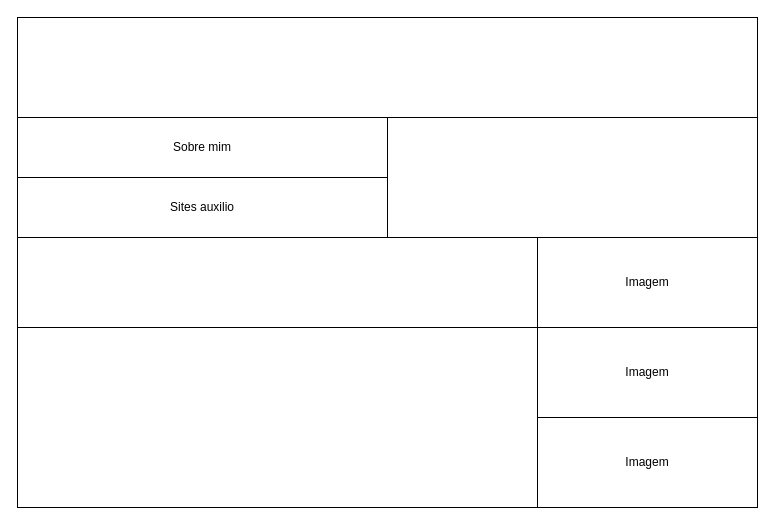
The diagram is 775 pixels wide and 525 high, and some of its shapes have lost their labels. Each missing label, with the box of its shape:
Contato: (16, 236, 538, 328)
Imagem minha e Nome: (16, 16, 758, 118)
Tabela: (386, 116, 758, 238)
